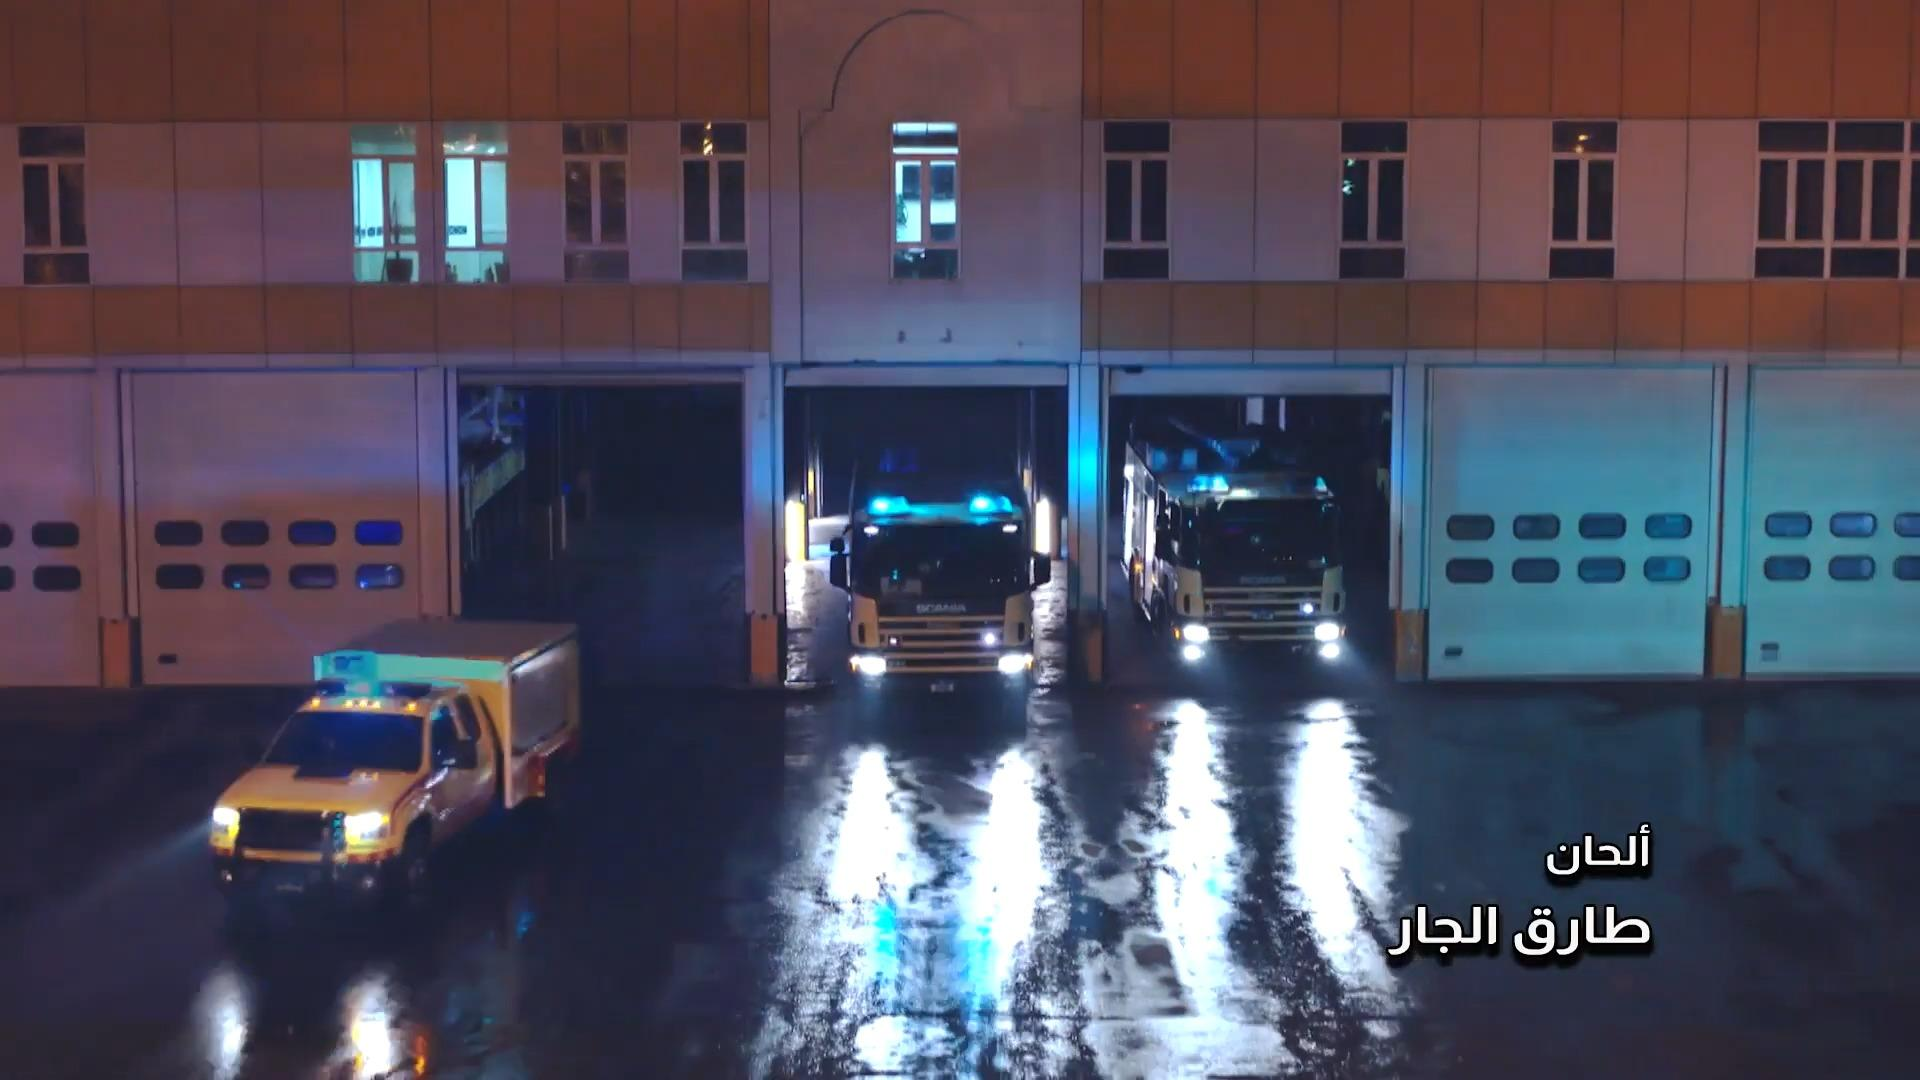firetruck_off: (206, 621, 582, 942)
firetruck_on: (827, 421, 1052, 733), (1117, 411, 1354, 696)
